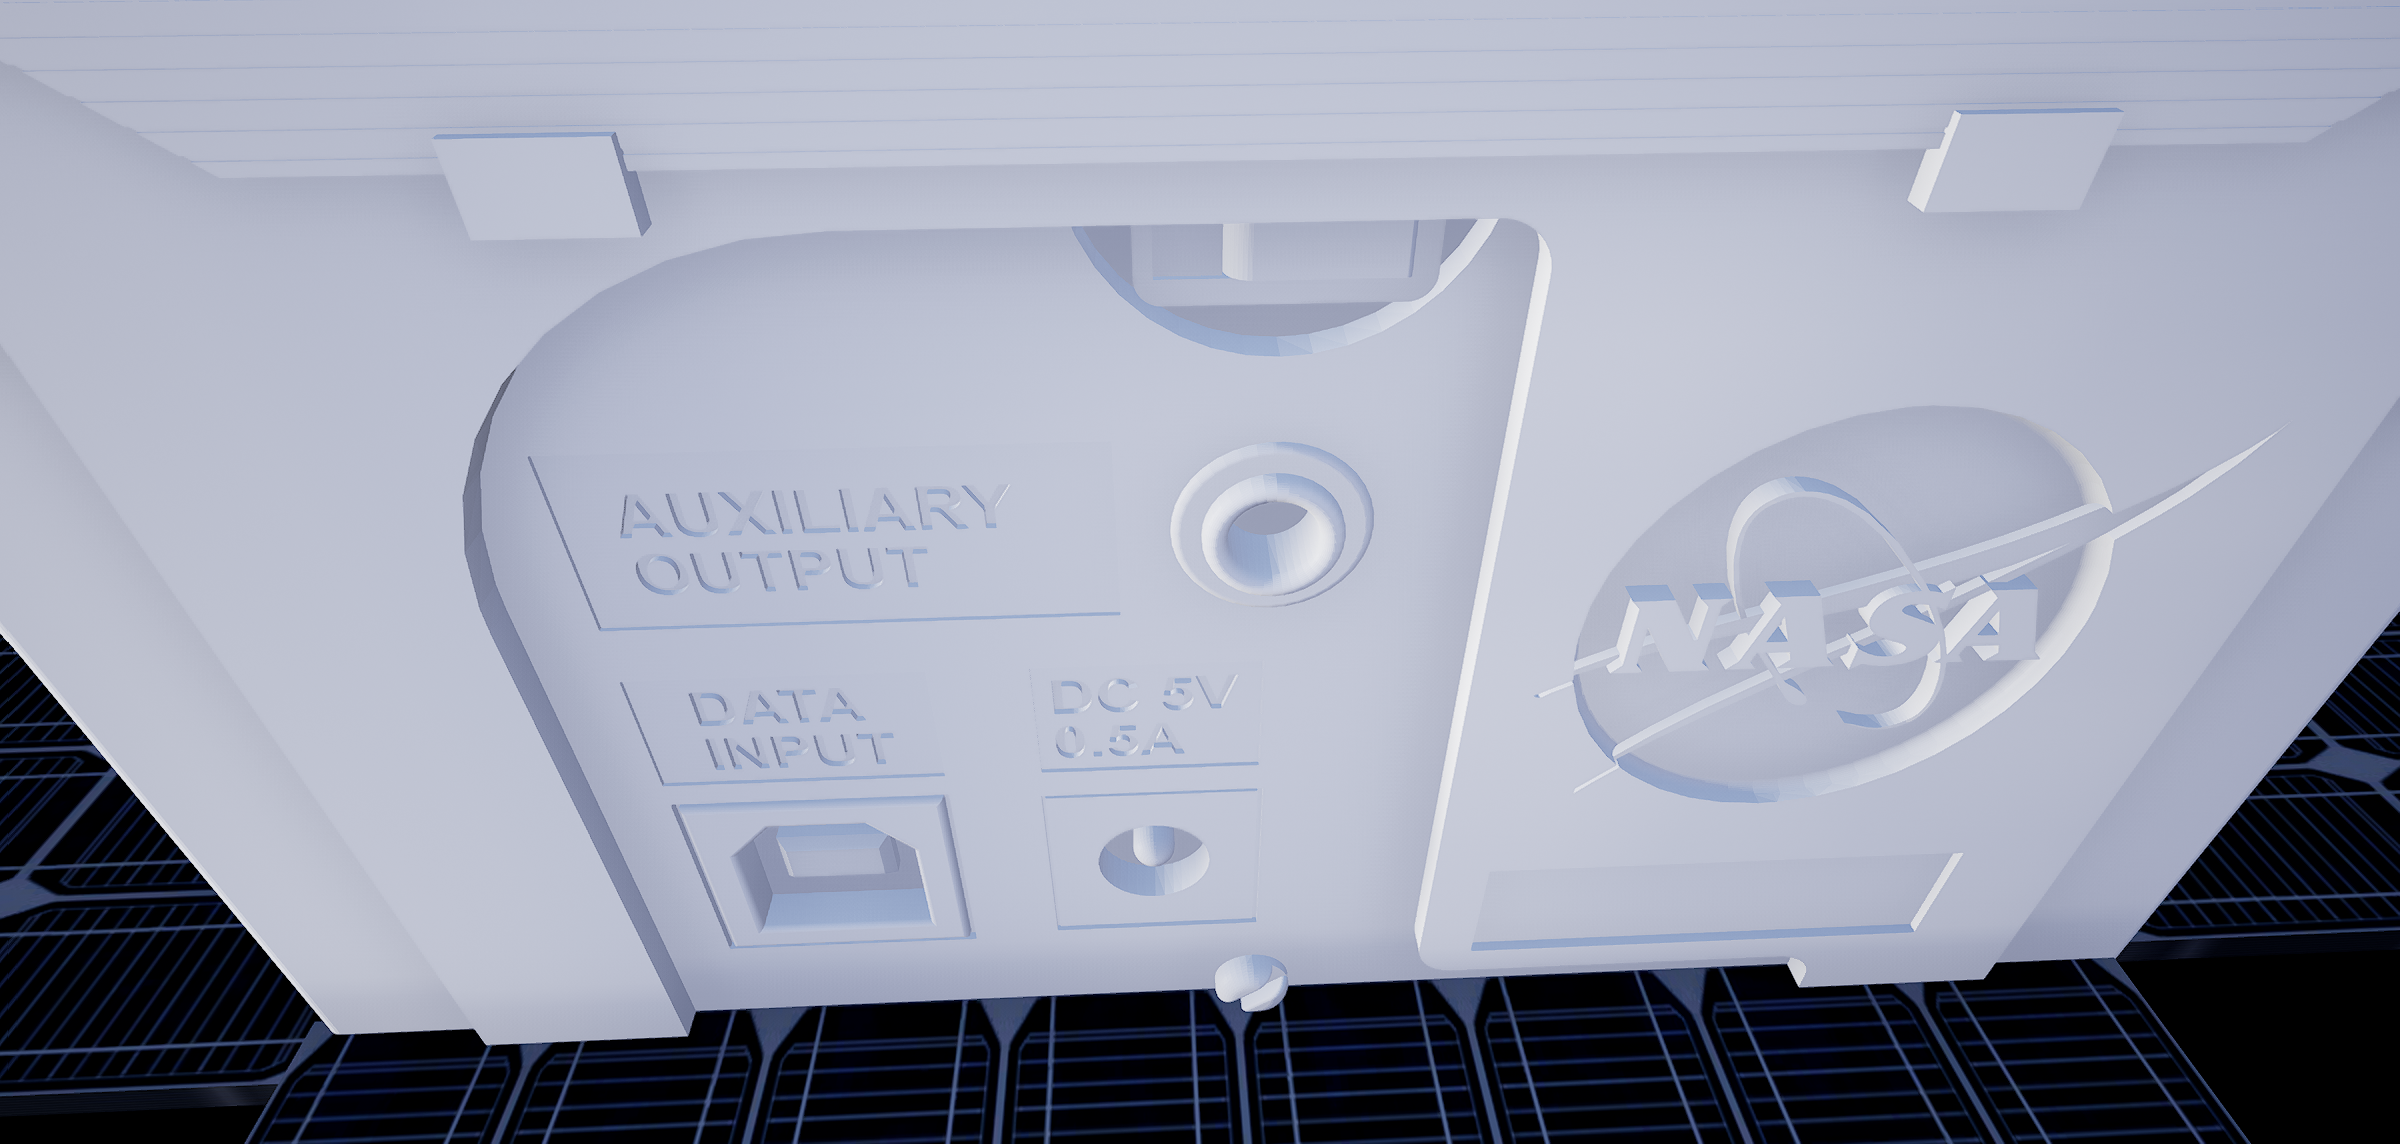aux: (1154, 433, 1384, 619)
dc: (1081, 813, 1223, 904)
usb: (726, 821, 940, 936)
